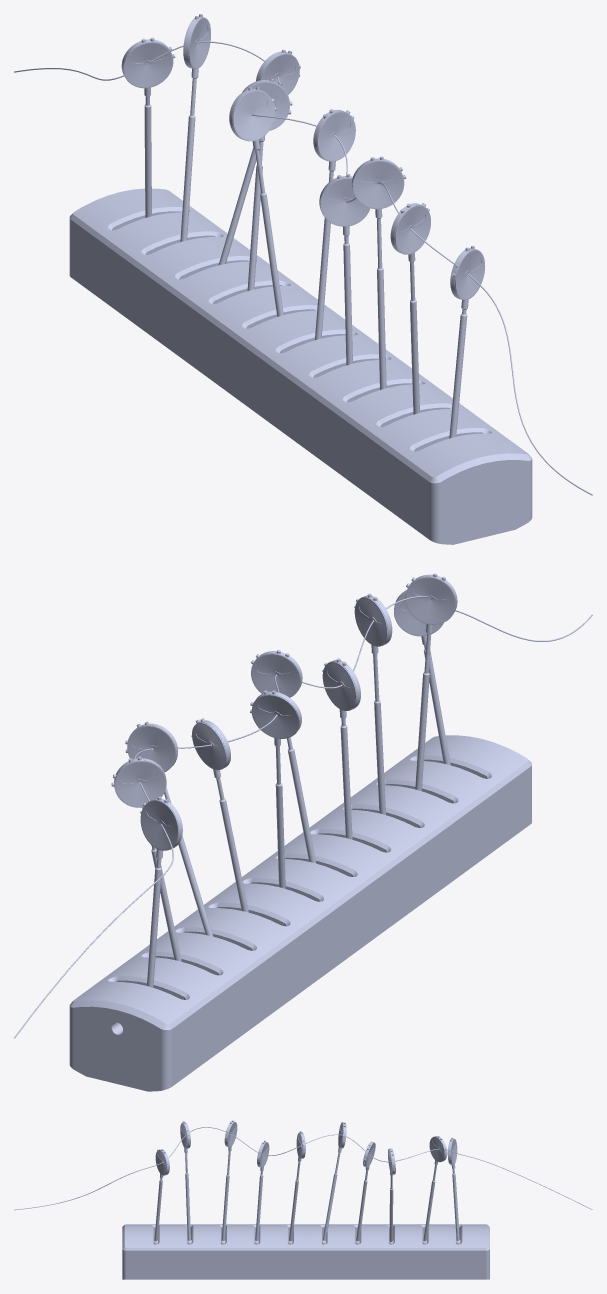
The model's file is sandrabae.fbx.
3 views of the same model, one above another, from view 1: azimuth 30°, elevation 25°; view 2: azimuth 150°, elevation 25°; view 3: azimuth 270°, elevation 25° (orthographic). The views are drawn at different scales.
Parts seen in each view (by area): view 1: base^Central Axis ASSM-1 - Part, holder-head^Central Axis ASSM-7 - Part, holder-head^Central Axis ASSM-11 - Part, holder-head^Central Axis ASSM-1 - Part, holder-head^Central Axis ASSM-8 - Part, holder-head^Central Axis ASSM-9 - Part, holder-head^Central Axis ASSM-5 - Part, wire^Central Axis ASSM-1 - Part, holder-head^Central Axis ASSM-4 - Part, holder-head^Central Axis ASSM-13 - Part, holder-head^Central Axis ASSM-12 - Part, slot3^Central Axis ASSM-32 - Part (+10 smaller); view 2: base^Central Axis ASSM-1 - Part, holder-head^Central Axis ASSM-5 - Part, holder-head^Central Axis ASSM-11 - Part, holder-head^Central Axis ASSM-13 - Part, holder-head^Central Axis ASSM-9 - Part, holder-head^Central Axis ASSM-1 - Part, holder-head^Central Axis ASSM-12 - Part, holder-head^Central Axis ASSM-7 - Part, wire^Central Axis ASSM-1 - Part, holder-head^Central Axis ASSM-8 - Part, holder-head^Central Axis ASSM-10 - Part, slot3^Central Axis ASSM-24 - Part (+10 smaller); view 3: base^Central Axis ASSM-1 - Part, wire^Central Axis ASSM-1 - Part, holder-head^Central Axis ASSM-13 - Part, holder-head^Central Axis ASSM-7 - Part, slot3^Central Axis ASSM-24 - Part, slot3^Central Axis ASSM-23 - Part, slot3^Central Axis ASSM-25 - Part, slot3^Central Axis ASSM-26 - Part, slot3^Central Axis ASSM-29 - Part, holder-head^Central Axis ASSM-4 - Part, slot3^Central Axis ASSM-27 - Part, slot3^Central Axis ASSM-30 - Part (+6 smaller).
Boxes of the visible parts, box(x1,y1,x2,y2) form: base^Central Axis ASSM-1 - Part: box(69, 188, 532, 544); holder-head^Central Axis ASSM-7 - Part: box(352, 158, 404, 268); holder-head^Central Axis ASSM-11 - Part: box(229, 90, 275, 193); holder-head^Central Axis ASSM-1 - Part: box(122, 39, 173, 105); holder-head^Central Axis ASSM-8 - Part: box(320, 176, 370, 243); holder-head^Central Axis ASSM-9 - Part: box(313, 110, 355, 181); holder-head^Central Axis ASSM-5 - Part: box(390, 203, 430, 300); wire^Central Axis ASSM-1 - Part: box(14, 41, 592, 495); holder-head^Central Axis ASSM-4 - Part: box(450, 249, 485, 314); holder-head^Central Axis ASSM-13 - Part: box(183, 17, 210, 115); holder-head^Central Axis ASSM-12 - Part: box(256, 51, 299, 94); slot3^Central Axis ASSM-32 - Part: box(180, 115, 195, 241); base^Central Axis ASSM-1 - Part: box(69, 735, 531, 1091); holder-head^Central Axis ASSM-5 - Part: box(405, 574, 455, 673); holder-head^Central Axis ASSM-11 - Part: box(251, 691, 301, 784); holder-head^Central Axis ASSM-13 - Part: box(114, 758, 166, 849); holder-head^Central Axis ASSM-9 - Part: box(251, 651, 302, 749); holder-head^Central Axis ASSM-1 - Part: box(140, 799, 182, 868); holder-head^Central Axis ASSM-12 - Part: box(127, 724, 177, 803); holder-head^Central Axis ASSM-7 - Part: box(354, 596, 392, 701); wire^Central Axis ASSM-1 - Part: box(14, 596, 592, 1038); holder-head^Central Axis ASSM-8 - Part: box(322, 660, 360, 726); holder-head^Central Axis ASSM-10 - Part: box(192, 720, 230, 800); slot3^Central Axis ASSM-24 - Part: box(147, 867, 161, 987); base^Central Axis ASSM-1 - Part: box(122, 1224, 489, 1279); wire^Central Axis ASSM-1 - Part: box(14, 1127, 592, 1210); holder-head^Central Axis ASSM-13 - Part: box(429, 1137, 447, 1180); holder-head^Central Axis ASSM-7 - Part: box(224, 1121, 237, 1175); slot3^Central Axis ASSM-24 - Part: box(452, 1173, 460, 1244); slot3^Central Axis ASSM-23 - Part: box(185, 1173, 191, 1244); slot3^Central Axis ASSM-25 - Part: box(221, 1175, 229, 1244); slot3^Central Axis ASSM-26 - Part: box(254, 1175, 263, 1244); slot3^Central Axis ASSM-29 - Part: box(322, 1173, 337, 1244); holder-head^Central Axis ASSM-4 - Part: box(155, 1150, 169, 1180); slot3^Central Axis ASSM-27 - Part: box(288, 1180, 298, 1244); slot3^Central Axis ASSM-30 - Part: box(355, 1180, 367, 1244).
Size of the model in its own units: 12.06 by 24.98 by 87.5.
